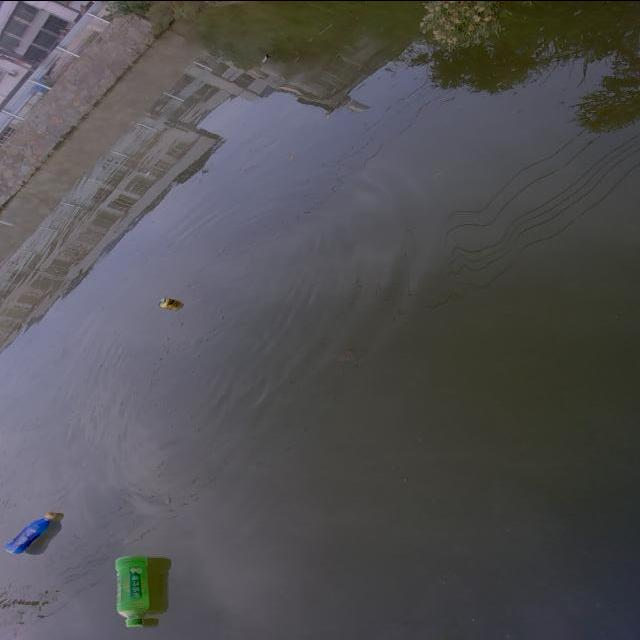bottle: (102, 544, 159, 636), (6, 500, 61, 562)
